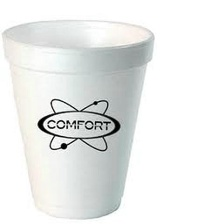paper_cup: (0, 12, 159, 224)
